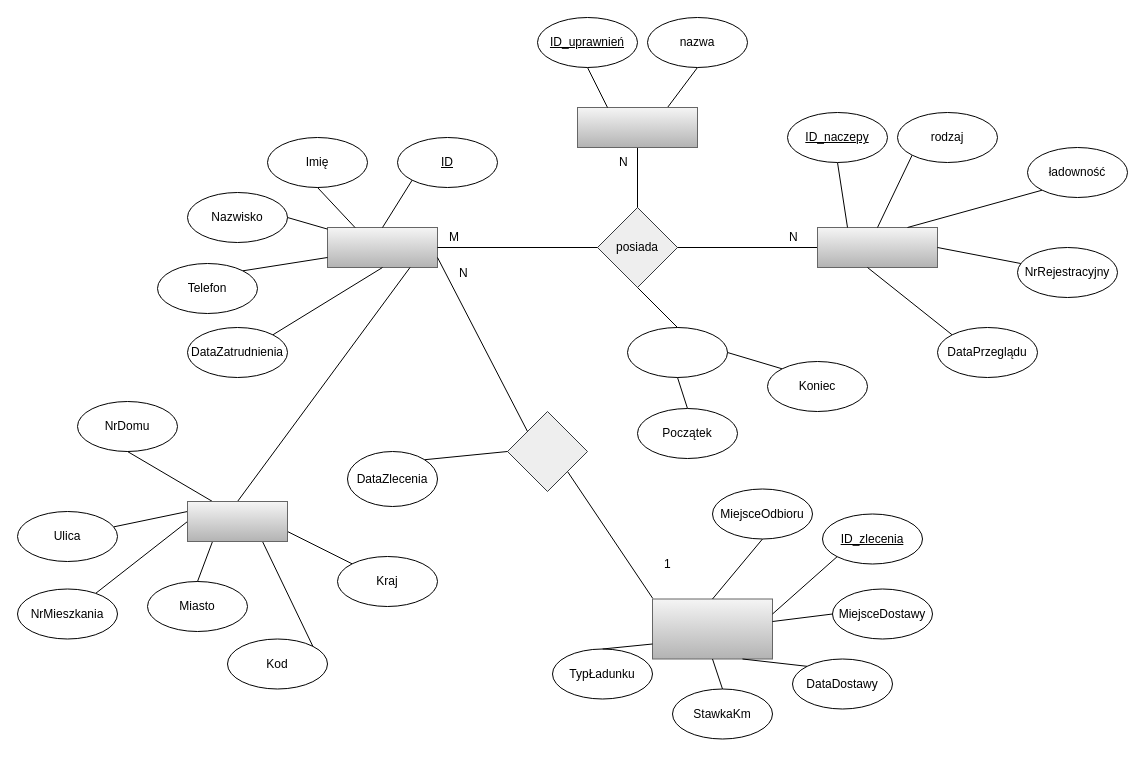
The diagram is 1145 pixels wide and 757 high, and some of its shapes have lost their labels. The box of each missing label's shape, as (x1, y1, x2, y2) in pixels:
ADRES: (186, 500, 288, 542)
CzasUprawnień: (626, 326, 728, 378)
KIEROWCA: (326, 226, 438, 268)
NACZEPA: (816, 226, 938, 268)
realizuje: (506, 410, 588, 492)
UPRAWNIENIA: (576, 106, 698, 148)
ZLECENIE: (652, 598, 772, 659)
